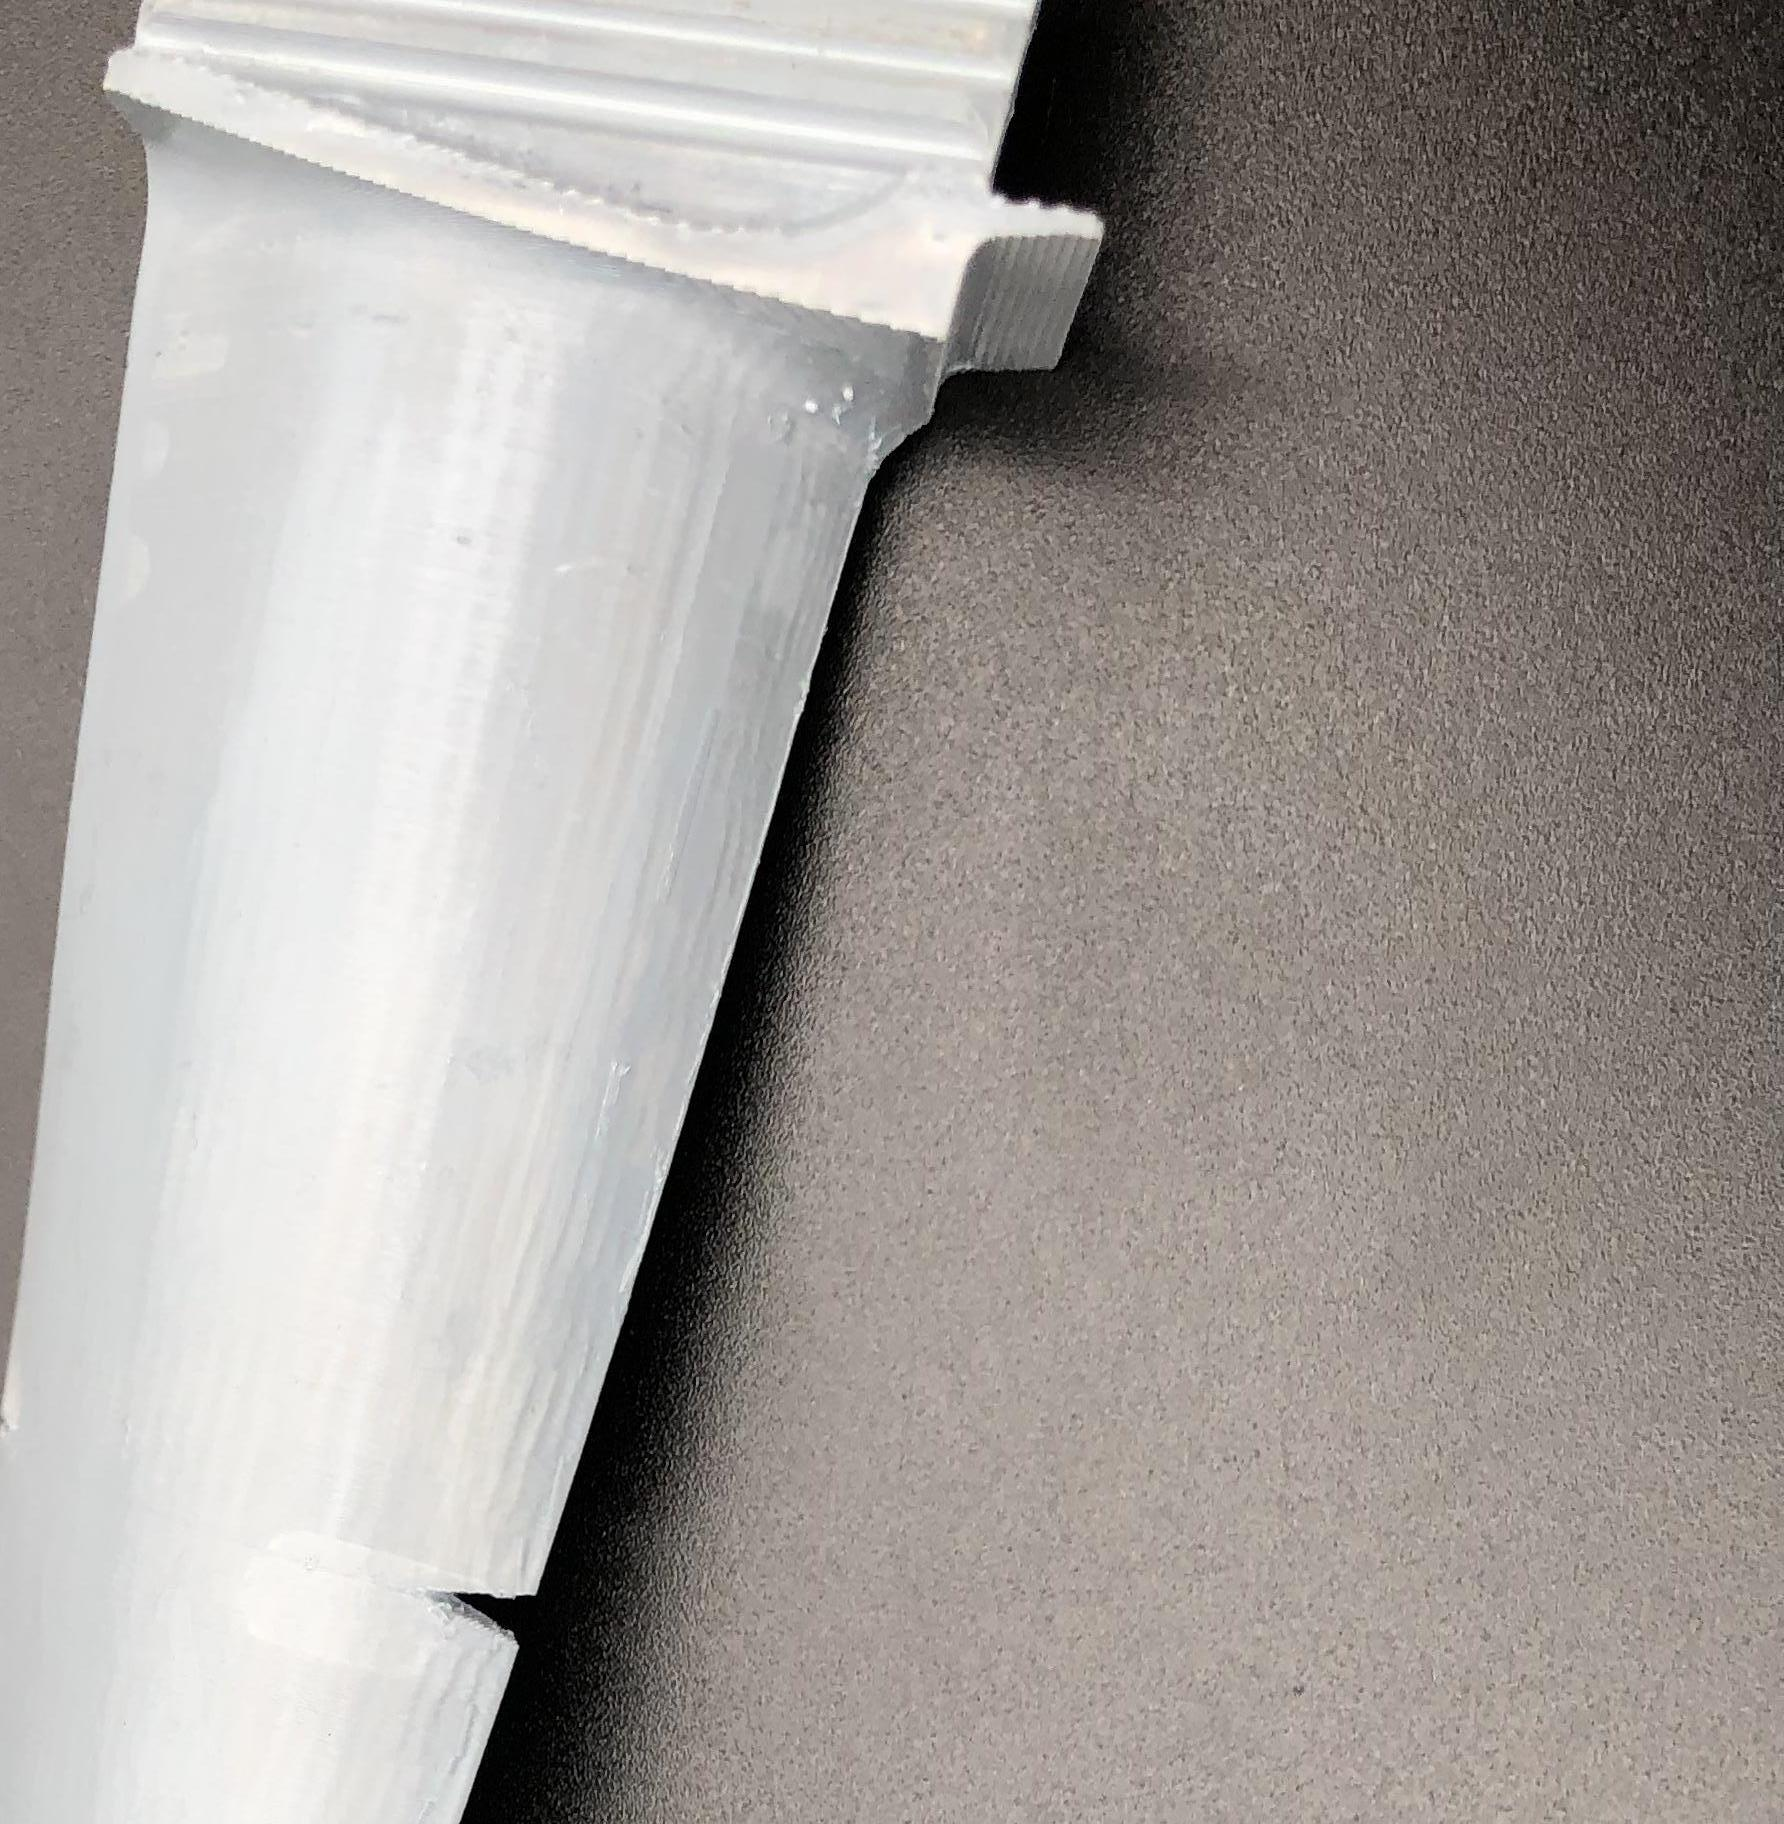groove: (423, 1580, 546, 1656)
